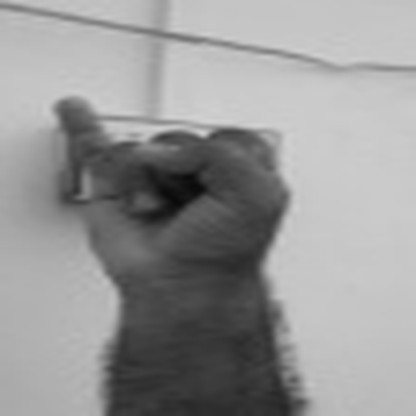i: (42, 82, 319, 288)
